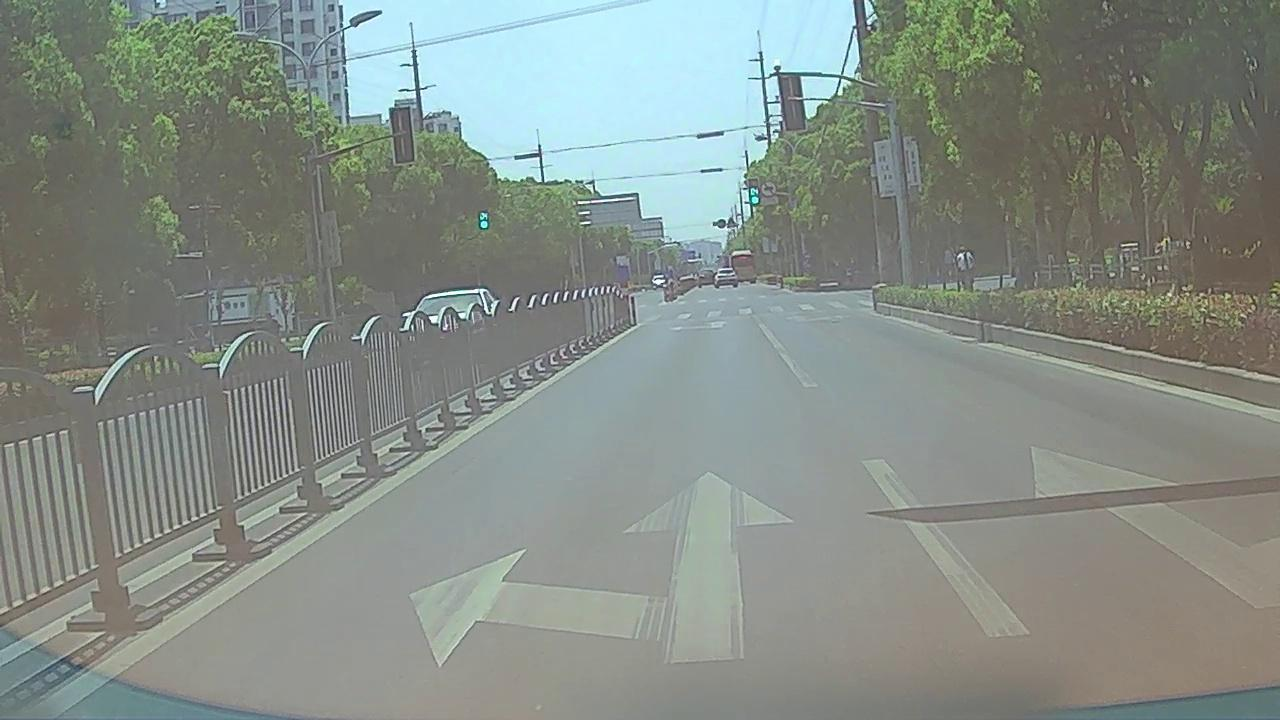traffic_light: (747, 178, 760, 206), (477, 211, 489, 229)
